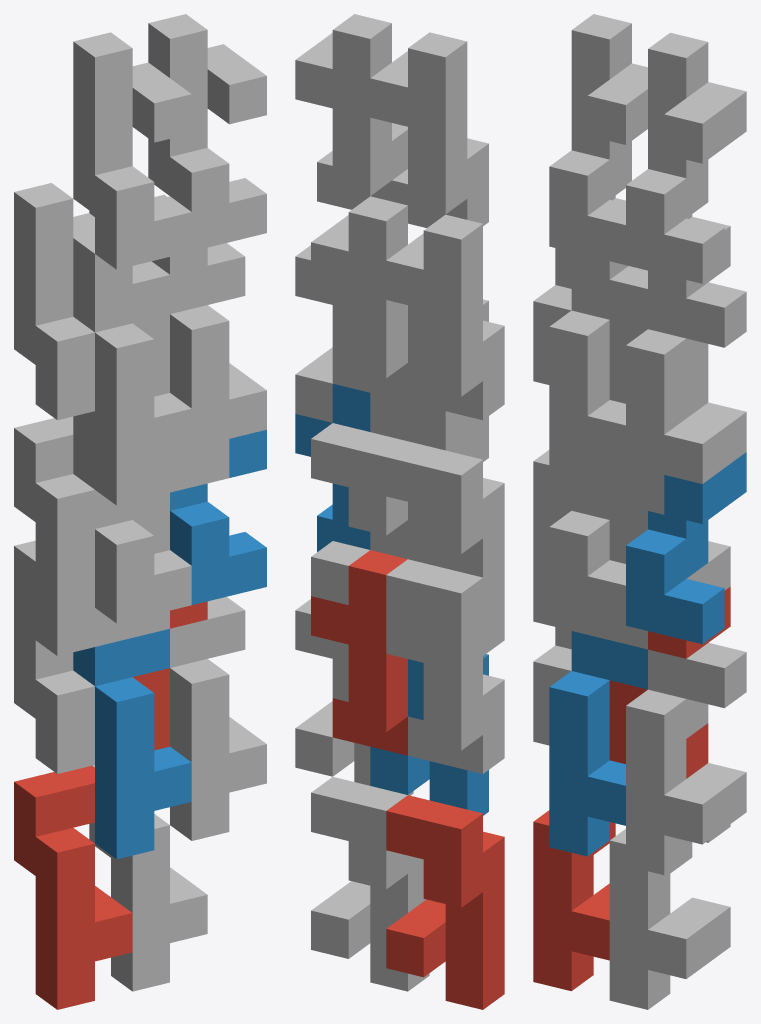
The model's file is tiling.obj.
3 views of the same model, side by side, from view 1: azimuth 30°, elevation 25°; view 2: azimuth 150°, elevation 25°; view 3: azimuth 330°, elevation 25° (orthographic).
Parts seen in each view (by area): view 1: copy_2_domain_4, copy_1_domain_1, copy_2_domain_3, copy_1_domain_4, copy_2_domain_8, copy_1_domain_2, copy_1_domain_6, copy_1_domain_3, copy_1_domain_8, copy_2_domain_2, copy_2_domain_1, copy_1_domain_5 (+4 smaller); view 2: copy_1_domain_1, copy_2_domain_3, copy_2_domain_1, copy_2_domain_4, copy_1_domain_3, copy_1_domain_5, copy_2_domain_8, copy_2_domain_7, copy_2_domain_5, copy_1_domain_7, copy_1_domain_6, copy_1_domain_2 (+4 smaller); view 3: copy_1_domain_6, copy_2_domain_8, copy_1_domain_8, copy_2_domain_4, copy_1_domain_2, copy_1_domain_4, copy_2_domain_6, copy_1_domain_5, copy_1_domain_1, copy_2_domain_2, copy_2_domain_7, copy_1_domain_3 (+4 smaller).
Part boxes in pixels (bbox=[...]): copy_2_domain_4: bbox=[73, 32, 191, 269]; copy_1_domain_1: bbox=[14, 765, 132, 1009]; copy_2_domain_3: bbox=[14, 183, 132, 420]; copy_1_domain_4: bbox=[73, 261, 191, 505]; copy_2_domain_8: bbox=[148, 14, 266, 251]; copy_1_domain_2: bbox=[73, 629, 191, 859]; copy_1_domain_6: bbox=[170, 597, 266, 840]; copy_1_domain_3: bbox=[14, 416, 94, 655]; copy_1_domain_8: bbox=[170, 243, 266, 487]; copy_2_domain_2: bbox=[73, 411, 191, 623]; copy_2_domain_1: bbox=[14, 540, 132, 773]; copy_1_domain_5: bbox=[89, 765, 207, 991]; copy_1_domain_1: bbox=[386, 795, 504, 1009]; copy_2_domain_3: bbox=[386, 214, 504, 420]; copy_2_domain_1: bbox=[386, 568, 504, 773]; copy_2_domain_4: bbox=[370, 32, 488, 227]; copy_1_domain_3: bbox=[386, 441, 504, 655]; copy_1_domain_5: bbox=[311, 777, 429, 991]; copy_2_domain_8: bbox=[295, 14, 407, 209]; copy_2_domain_7: bbox=[311, 196, 407, 401]; copy_2_domain_5: bbox=[311, 550, 407, 755]; copy_1_domain_7: bbox=[311, 423, 407, 604]; copy_1_domain_6: bbox=[295, 599, 413, 795]; copy_1_domain_2: bbox=[370, 654, 488, 815]; copy_1_domain_6: bbox=[626, 642, 746, 874]; copy_2_domain_8: bbox=[626, 32, 746, 283]; copy_1_domain_8: bbox=[626, 282, 746, 514]; copy_2_domain_4: bbox=[549, 14, 647, 264]; copy_1_domain_2: bbox=[549, 631, 647, 856]; copy_1_domain_4: bbox=[549, 266, 647, 495]; copy_2_domain_6: bbox=[626, 452, 746, 644]; copy_1_domain_5: bbox=[609, 824, 730, 1009]; copy_1_domain_1: bbox=[533, 810, 615, 991]; copy_2_domain_2: bbox=[549, 456, 625, 625]; copy_2_domain_7: bbox=[609, 214, 730, 418]; copy_1_domain_3: bbox=[533, 450, 571, 630].
Bounding box in the file's own units: 5 × 24 × 3.
